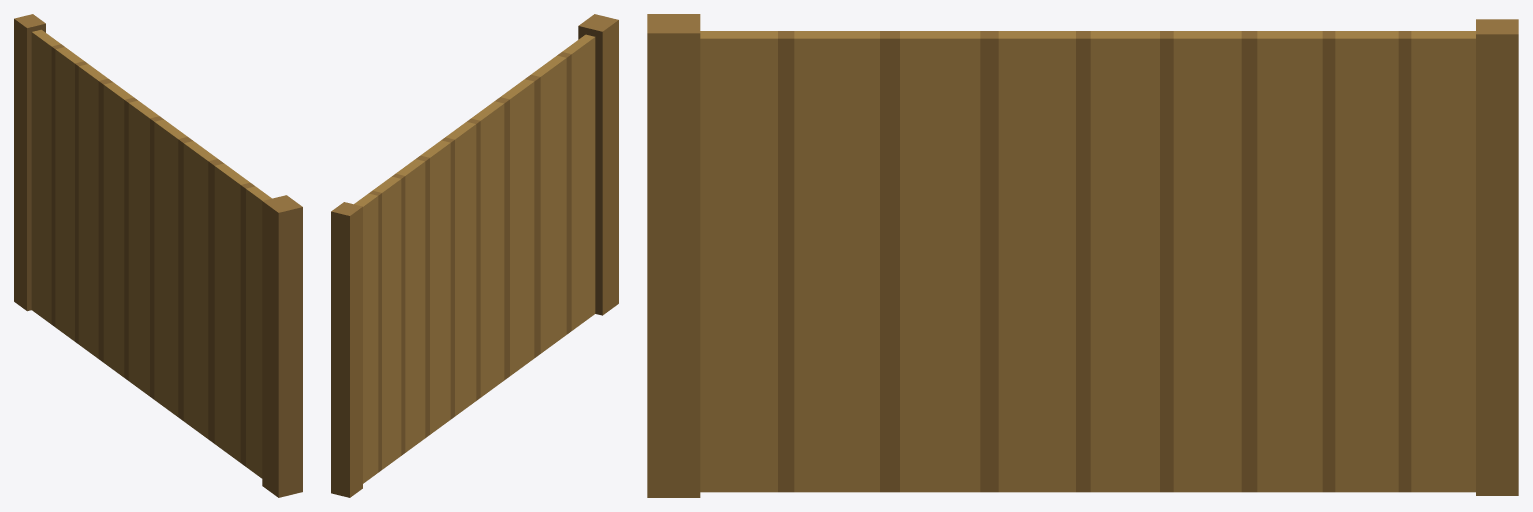
Rendered from Fence_Wood_01.fbx.
3 renders of one model, left to right at view 1: azimuth 30°, elevation 25°; view 2: azimuth 150°, elevation 25°; view 3: azimuth 270°, elevation 25°, orthographic. The views are drawn at different scales.
Parts seen in each view (by area): view 1: Fence_Wood_01; view 2: Fence_Wood_01; view 3: Fence_Wood_01.
Part boxes in pixels (x1,y1,x2,y2): Fence_Wood_01: (14, 14, 302, 497); Fence_Wood_01: (331, 14, 618, 497); Fence_Wood_01: (647, 14, 1518, 497).
Size of the model in its own units: 0.2679 by 5.1 by 3.
